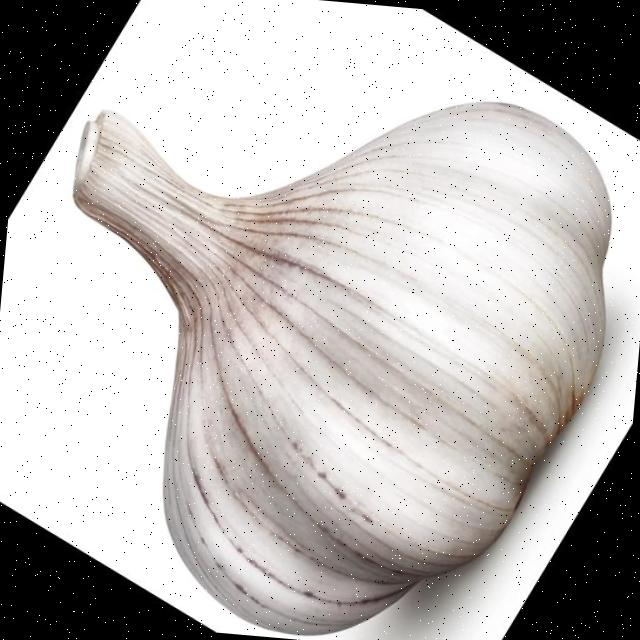garlic: (76, 101, 610, 634)
